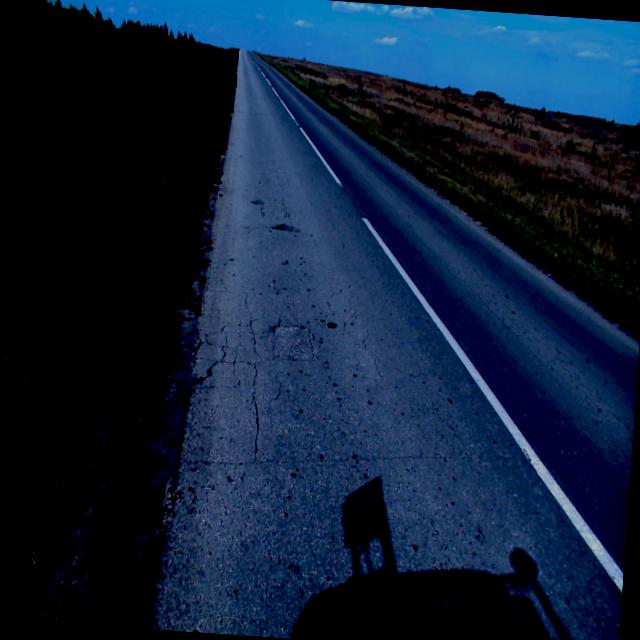road: (153, 47, 639, 640)
